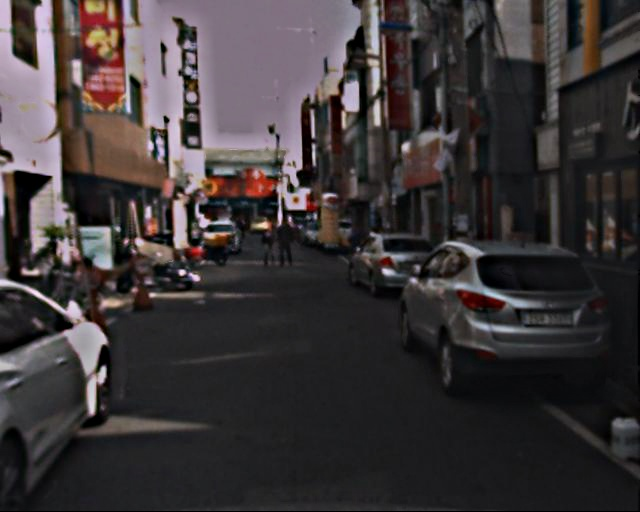person: (346, 214, 368, 275), (276, 215, 299, 273), (261, 218, 281, 269)
